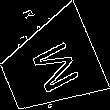M_SW: (22, 34, 79, 97)
